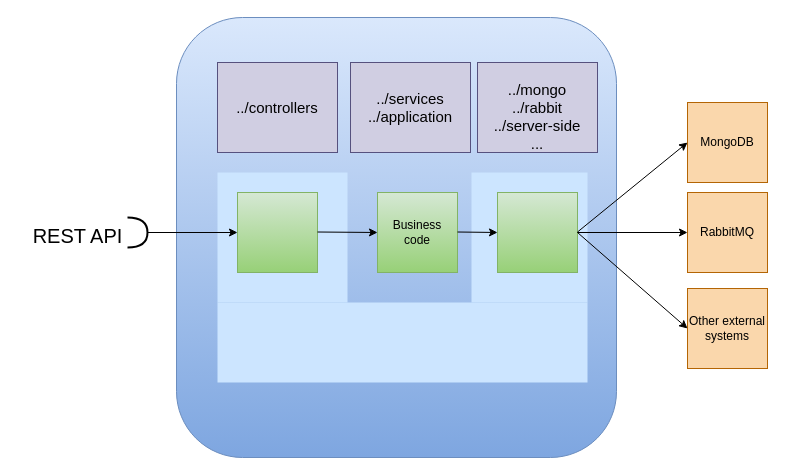
Some shapes in this 785 by 475 pixel diagram are drawn without their labels. Each missing label, with the centre of its shape:
"Controllers" belongs at pixel 277 232.
"Server adapters" belongs at pixel 537 232.
"Spring Framework / Node-js" belongs at pixel 402 342.
